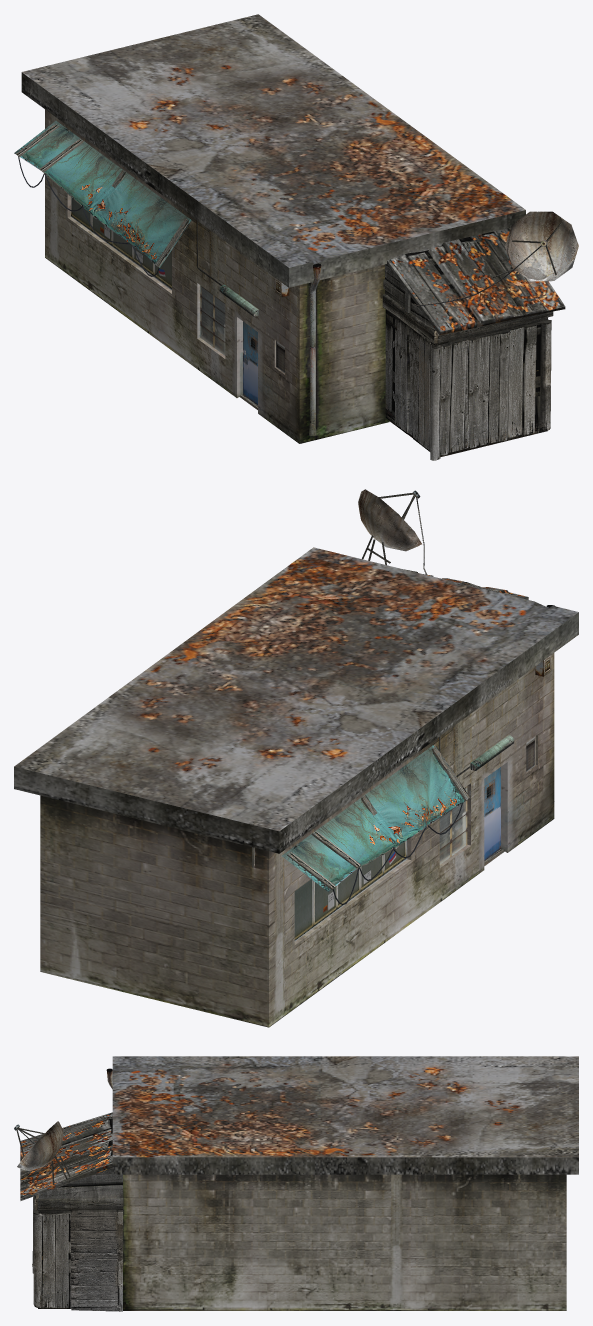
The model's file is House.FBX.
The picture shows the model from 3 angles, top to bottom: view 1: azimuth 30°, elevation 25°; view 2: azimuth 150°, elevation 25°; view 3: azimuth 270°, elevation 25°; orthographic projection. The views are drawn at different scales.
Parts seen in each view (by area): view 1: House; view 2: House; view 3: House.
Boxes of the visible parts, <box> form: House: <box>14,14,578,460</box>; House: <box>14,489,578,1027</box>; House: <box>14,1056,578,1311</box>.
Size of the model in its own units: 585 by 447 by 1236.
